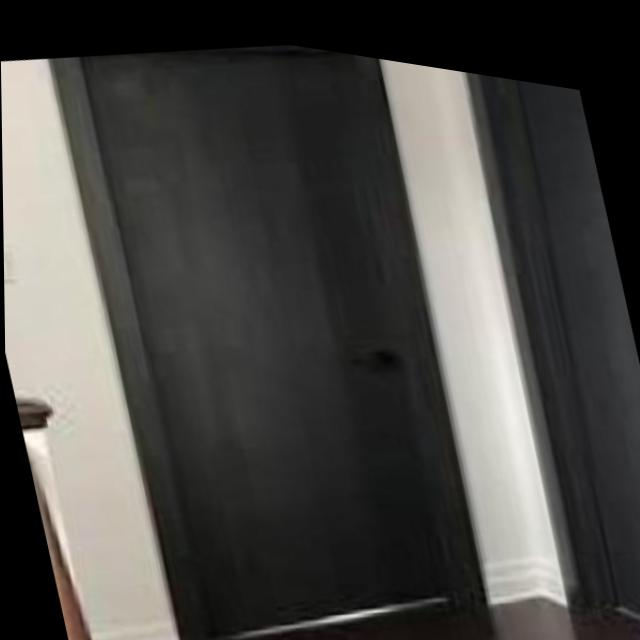door_handle: (340, 321, 417, 376)
